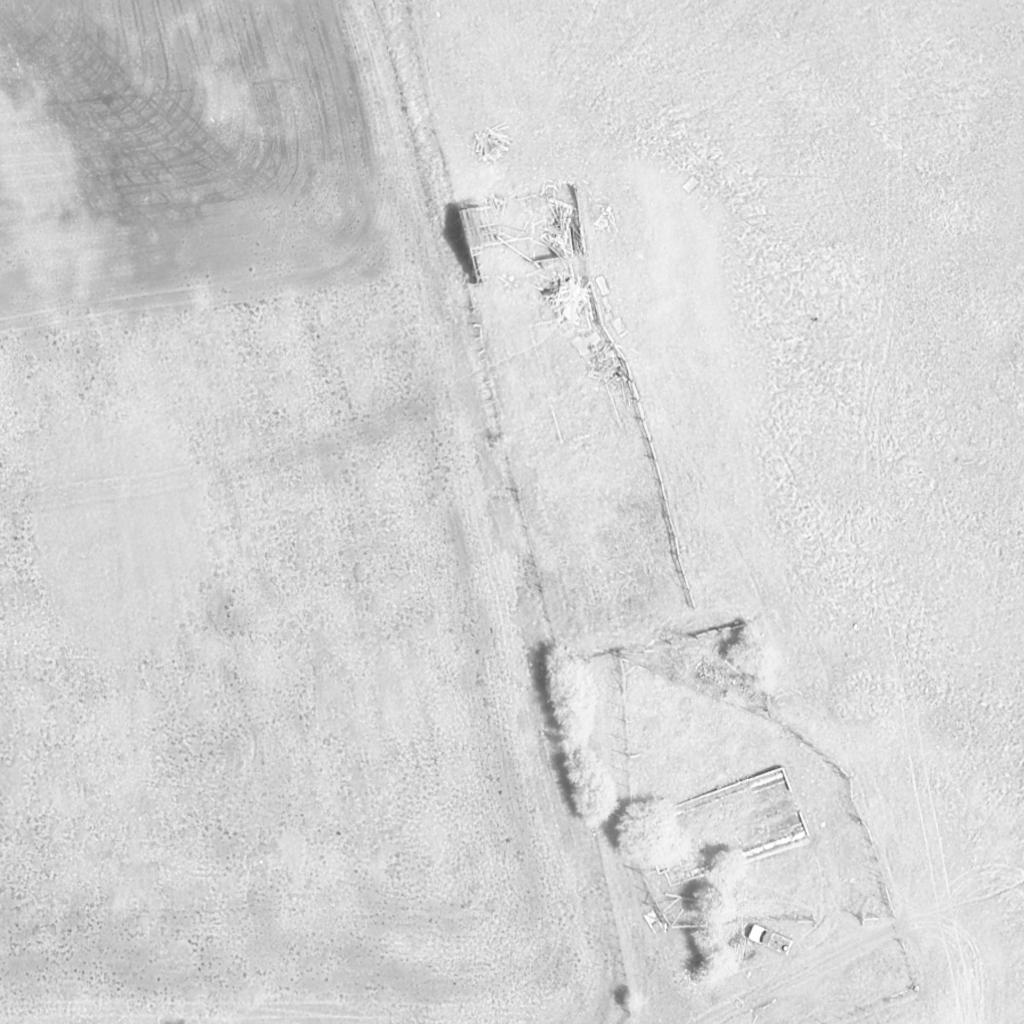vehicle: (738, 921, 796, 957)
